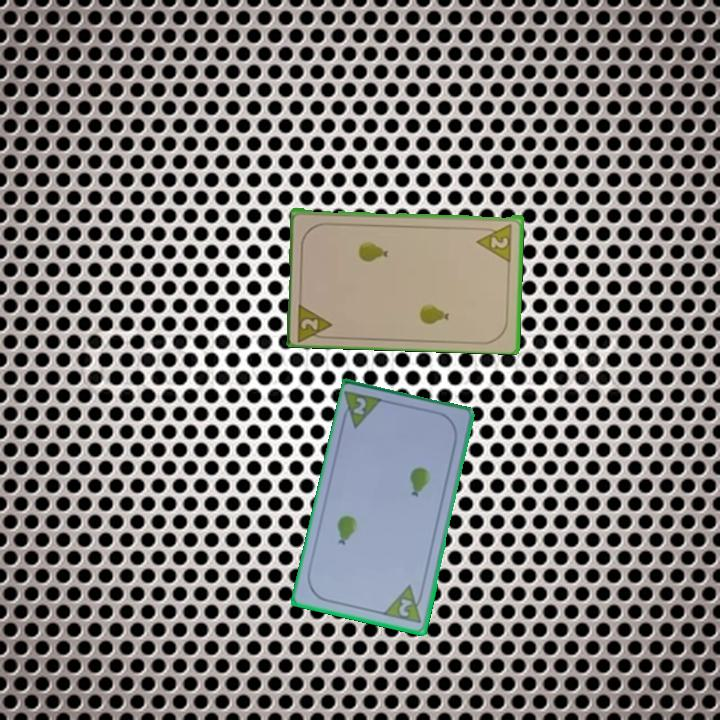2p: (380, 582, 427, 627), (294, 298, 336, 342), (474, 220, 515, 263), (349, 393, 369, 418)
